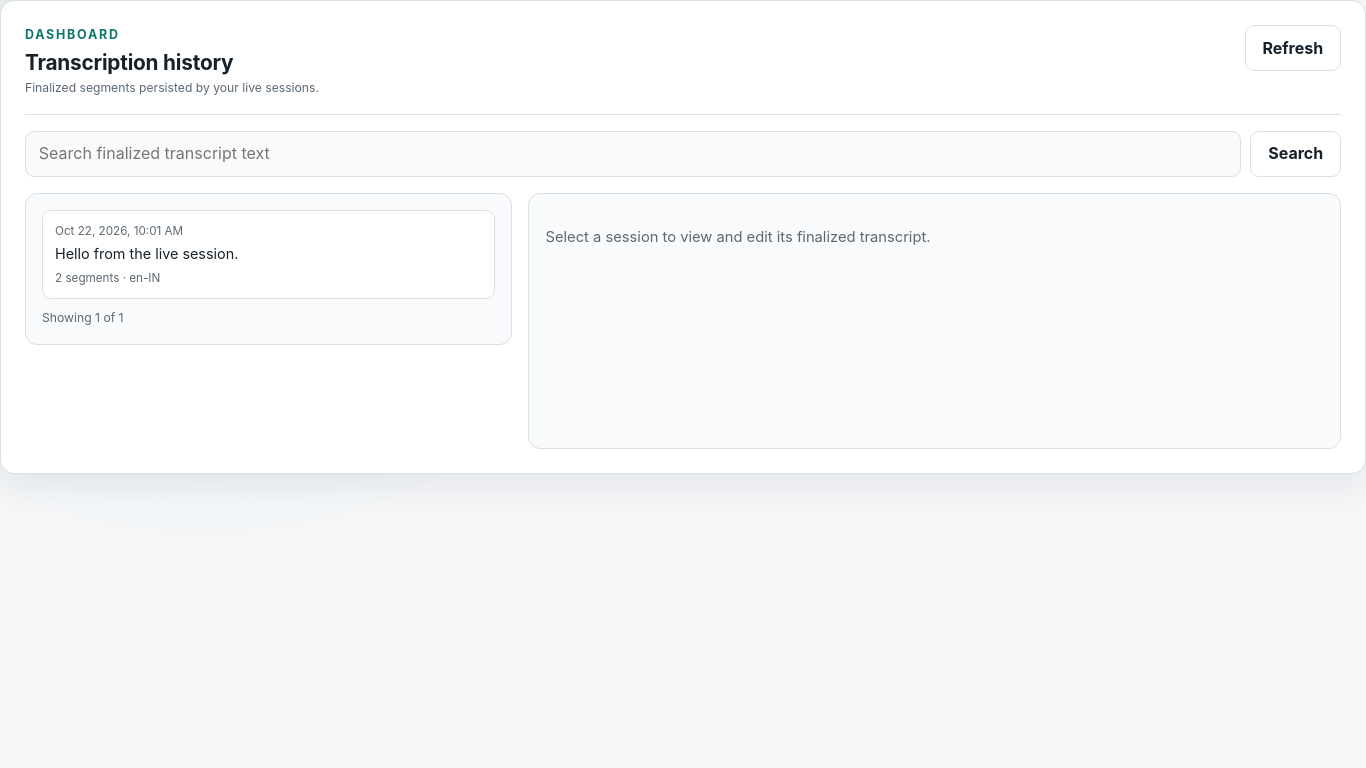
Test: HistoryDashboard › edits and trims a segment, then refreshes the list
Click the button "Hello from the live session" at (119, 231), box x1=42 y1=210 x2=496 y2=299
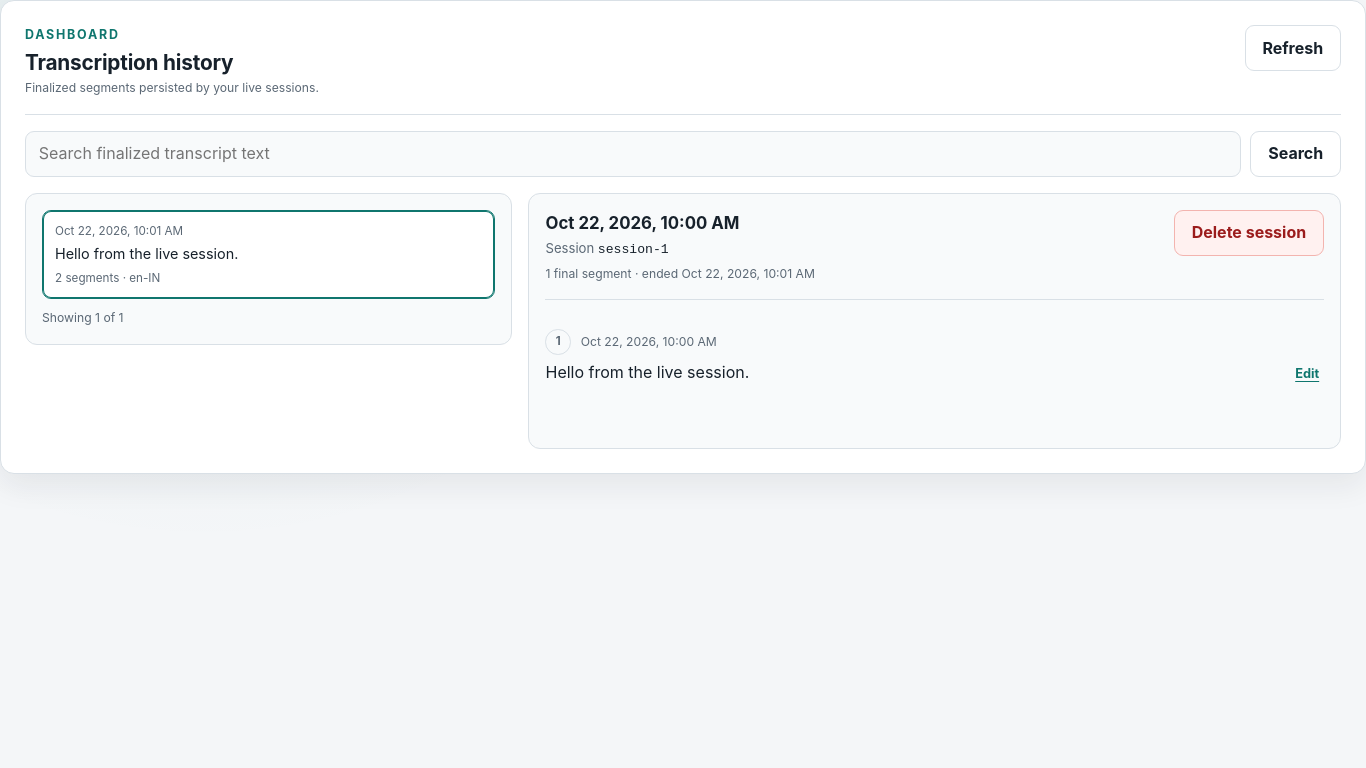
Click the button "Edit" at (1307, 374), box x1=1290 y1=360 x2=1324 y2=388
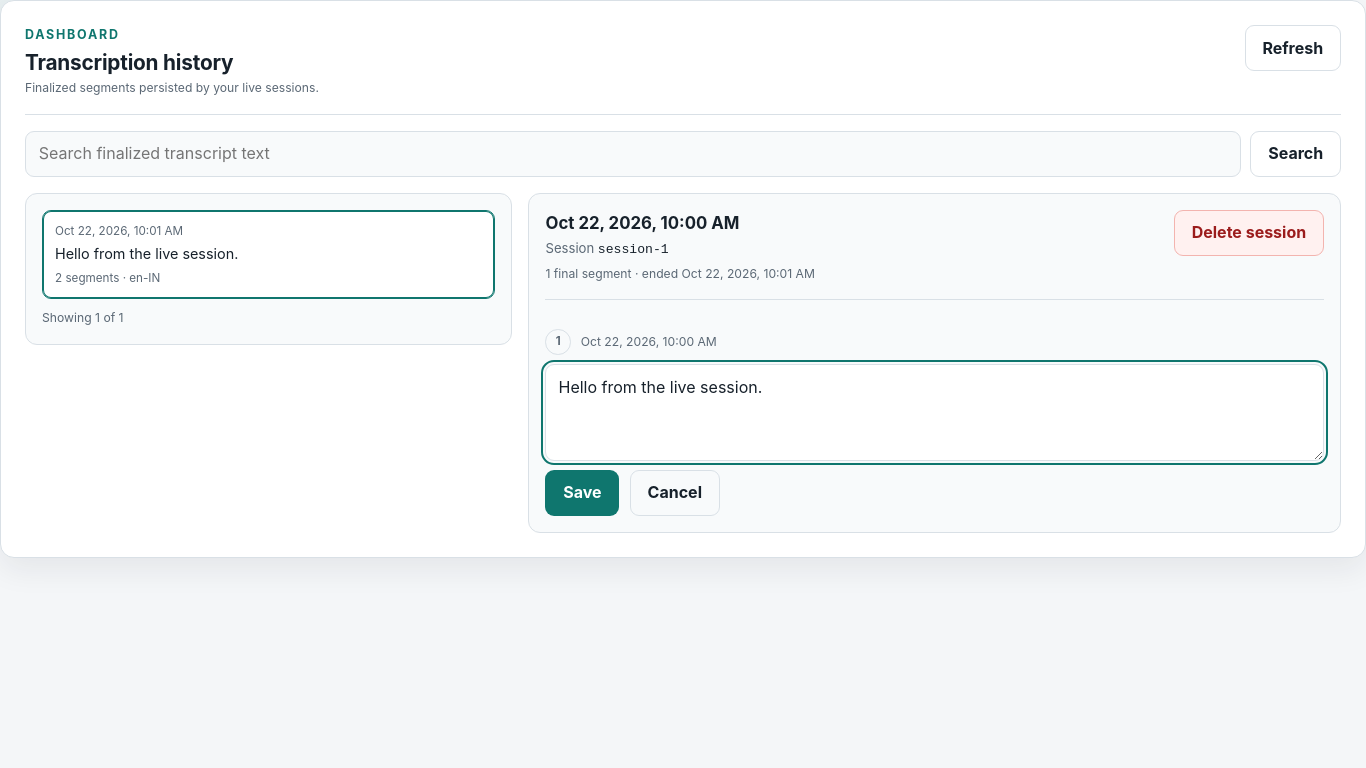
Replace the text in the text box named "Transcript text" with "  Corrected text.  " at (935, 412), box x1=546 y1=364 x2=1324 y2=461
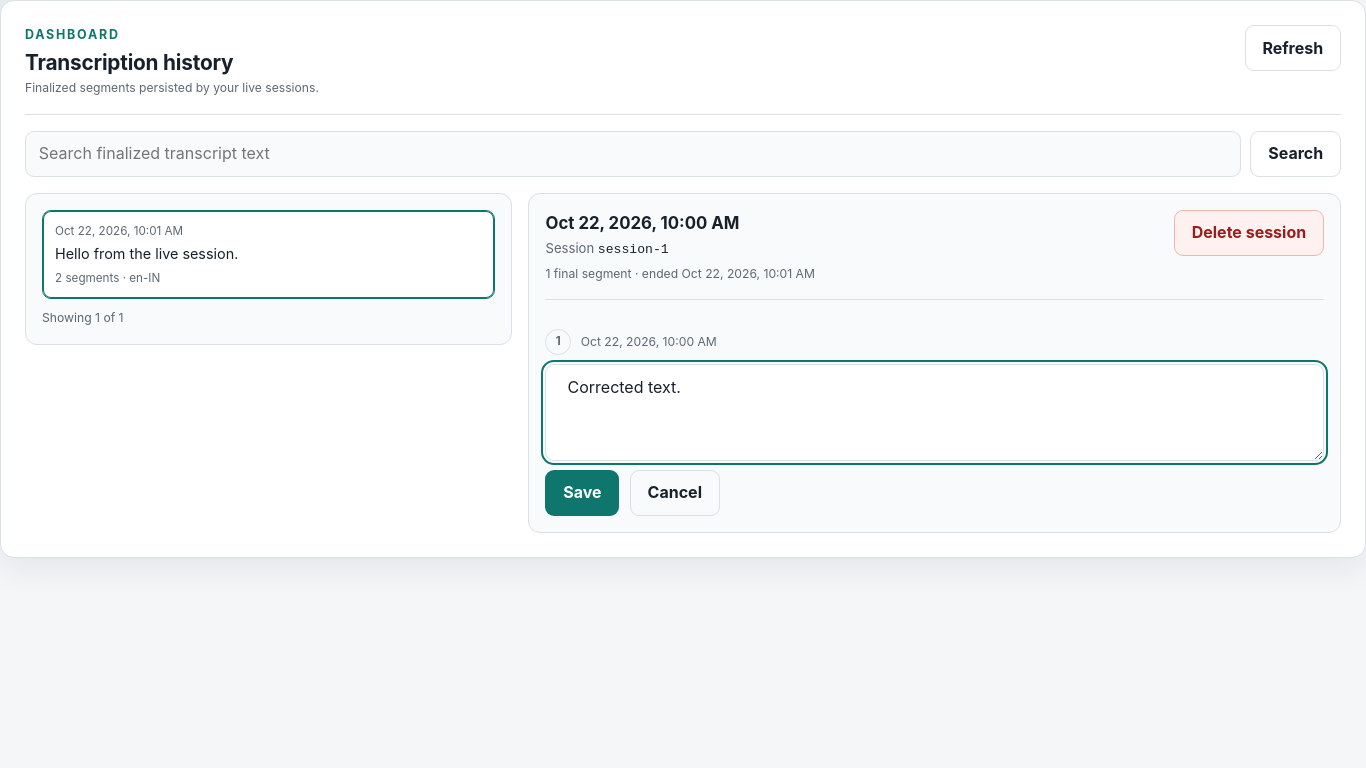
Click the button "Save" at (582, 492), box x1=546 y1=470 x2=619 y2=516
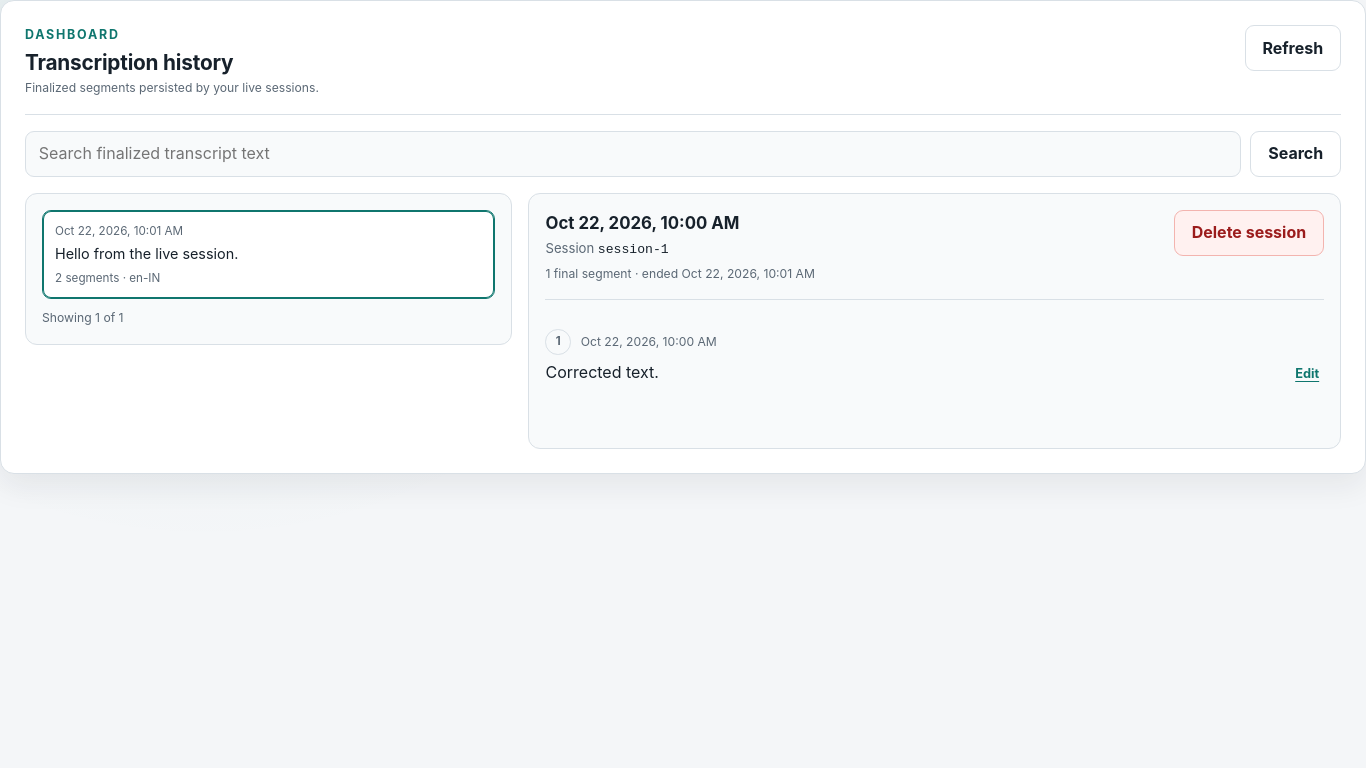
Result: the text "Corrected text." is shown at x1=546 y1=360 x2=659 y2=385
